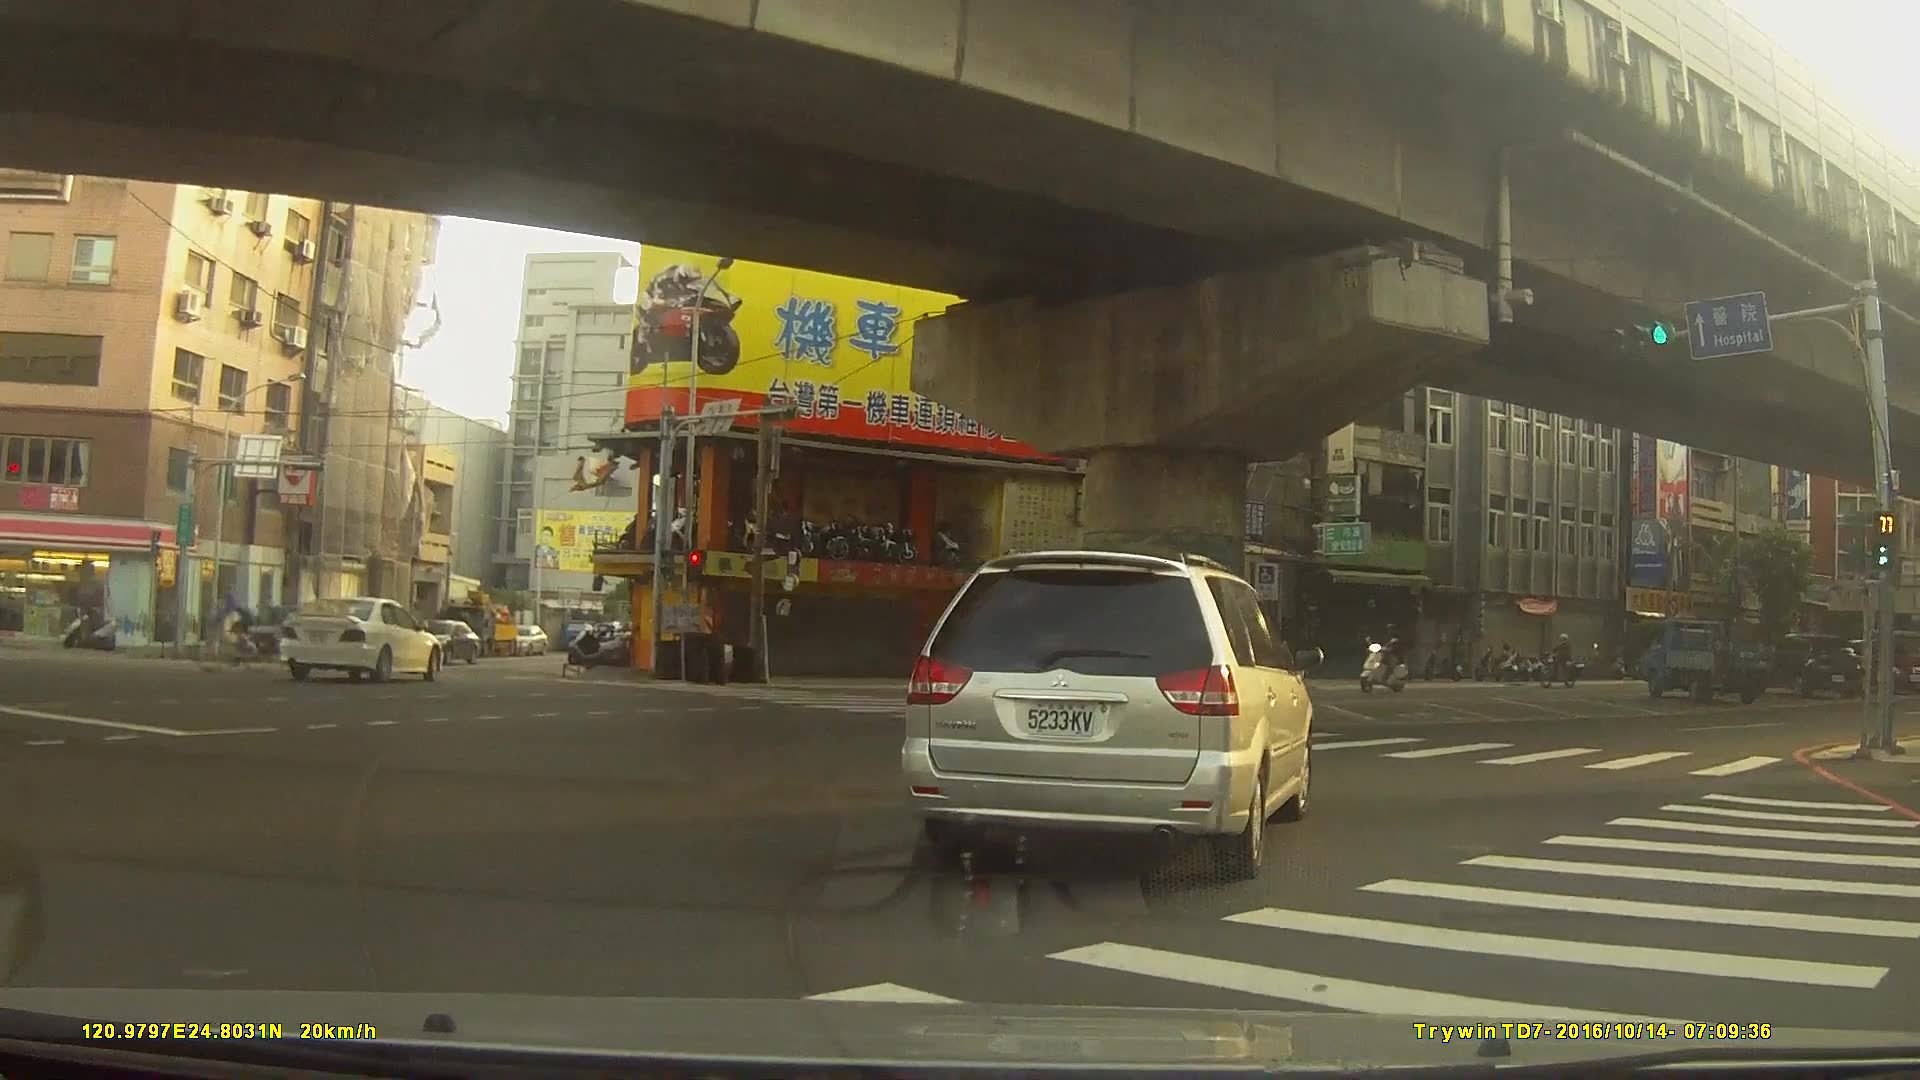rider: (193, 584, 274, 676), (1361, 623, 1412, 691), (1534, 631, 1587, 687)
vehicle: (898, 547, 1315, 871), (278, 596, 445, 683), (1637, 613, 1774, 700), (1753, 629, 1863, 696), (407, 619, 481, 664), (506, 626, 546, 657)
